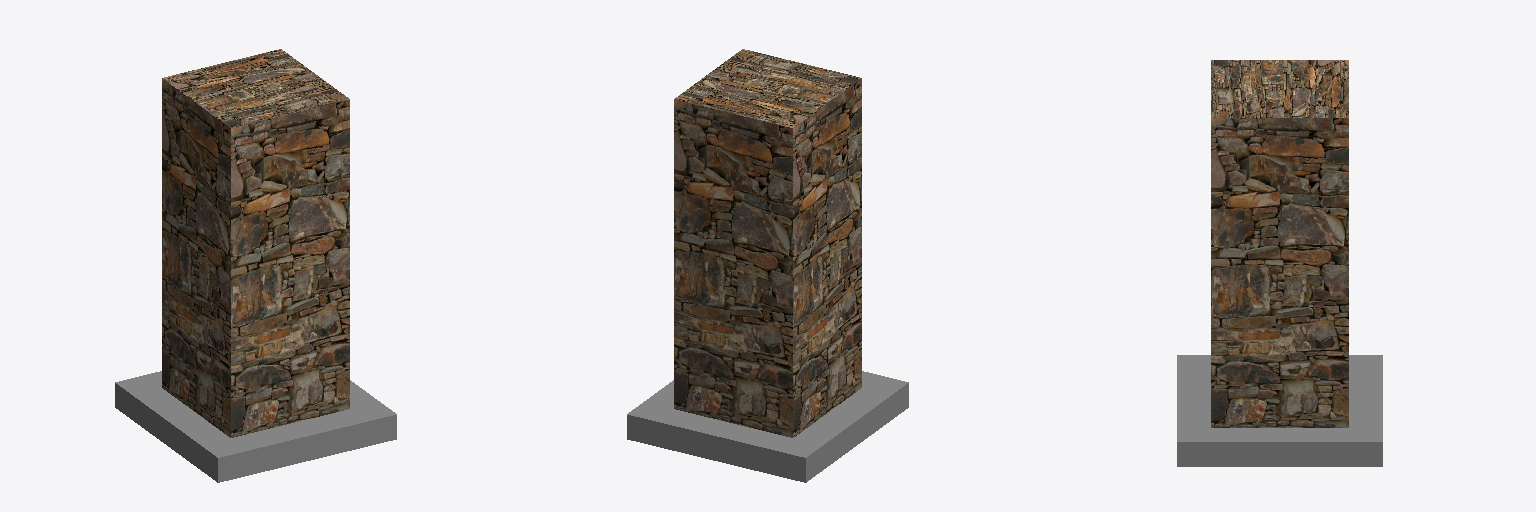
3 views of the same model, side by side, from view 1: azimuth 30°, elevation 25°; view 2: azimuth 150°, elevation 25°; view 3: azimuth 270°, elevation 25° (orthographic).
Visible parts, largest first — view 1: Box02, Box01; view 2: Box02, Box01; view 3: Box02, Box01.
Part boxes in pixels (left/top/right/bottom): Box02: left=162, top=49, right=349, bottom=437; Box01: left=115, top=371, right=396, bottom=482; Box02: left=674, top=49, right=861, bottom=437; Box01: left=627, top=371, right=908, bottom=482; Box02: left=1211, top=60, right=1348, bottom=427; Box01: left=1177, top=355, right=1382, bottom=466.
Bounding box in the file's own units: 2.66 × 4.75 × 2.66.
2 materials, 1 textured.